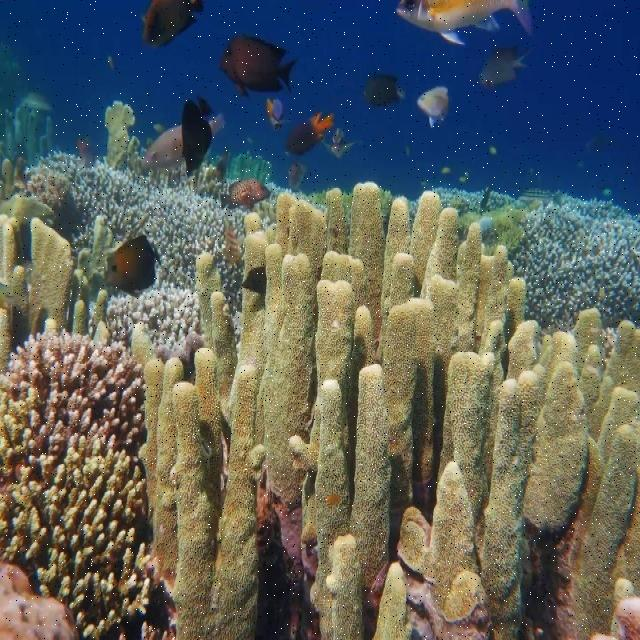fish: (398, 0, 532, 47), (219, 39, 296, 96), (105, 238, 160, 299), (180, 97, 215, 183), (142, 0, 203, 46), (479, 47, 527, 89), (282, 114, 334, 152), (364, 76, 409, 108), (220, 181, 271, 209), (416, 88, 451, 128)
reefs: (141, 185, 638, 639), (0, 331, 179, 639), (29, 154, 244, 357), (431, 185, 639, 333), (0, 214, 110, 373)
